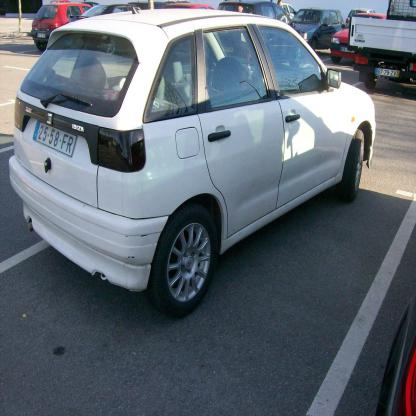Car: (7, 1, 388, 320)
